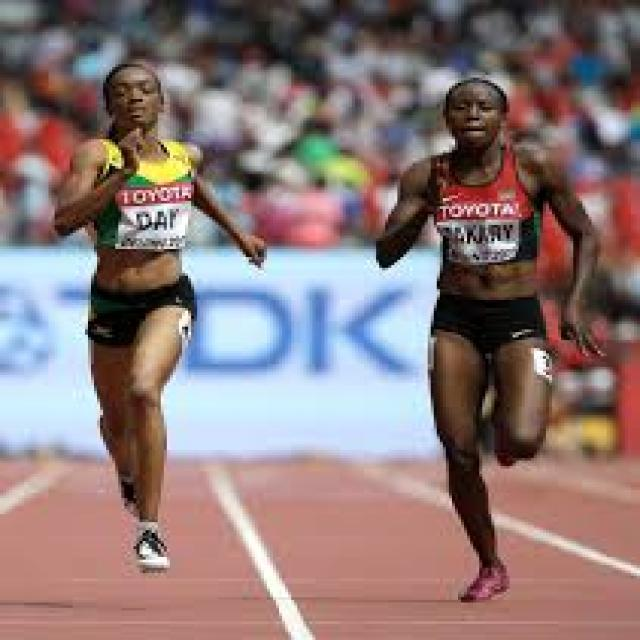running: (372, 76, 602, 607), (49, 62, 271, 574)
